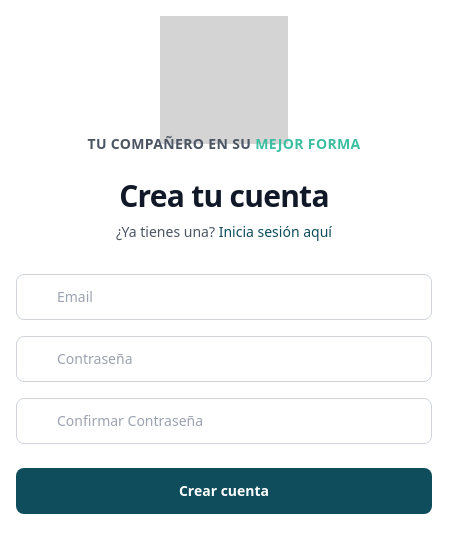
Test: RegisterPage - HU1: Registro de Usuario › muestra "La contraseña debe contener al menos un número" sin dígito
This screenshot has width=449, height=551.
Type "test@test.com" into the field with placeholder "Email" at (224, 297), box [16, 274, 432, 320]
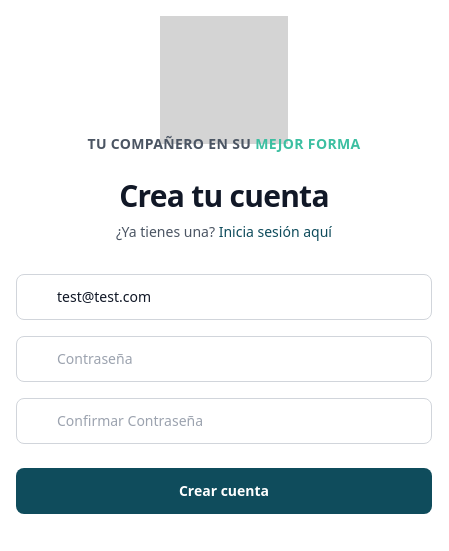
Type "Password!" into the password field with placeholder "Contraseña" at (224, 359), box [16, 336, 432, 382]
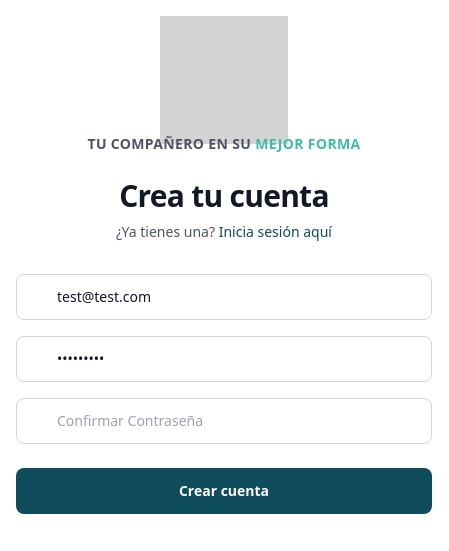
Type "Password!" into the password field with placeholder "Confirmar Contraseña" at (224, 421), box [16, 398, 432, 444]
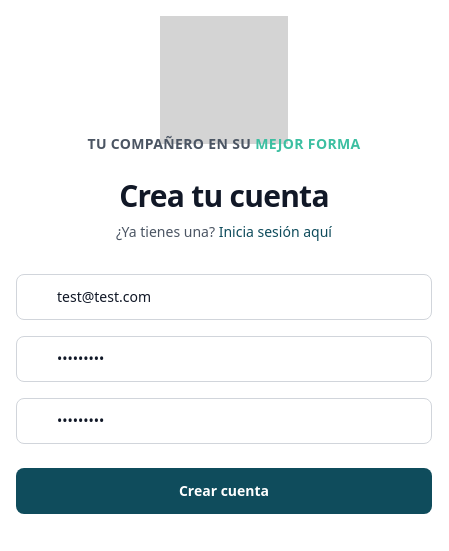
Click the button "Crear cuenta" at (224, 491), box [16, 468, 432, 514]
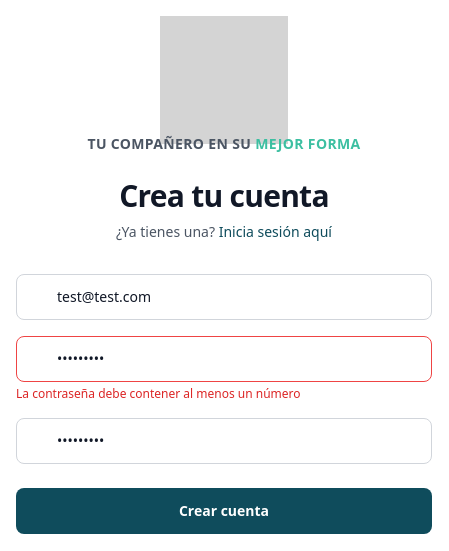
Expected: the text "La contraseña debe contener al menos un número" is shown, [16, 385, 301, 402]
